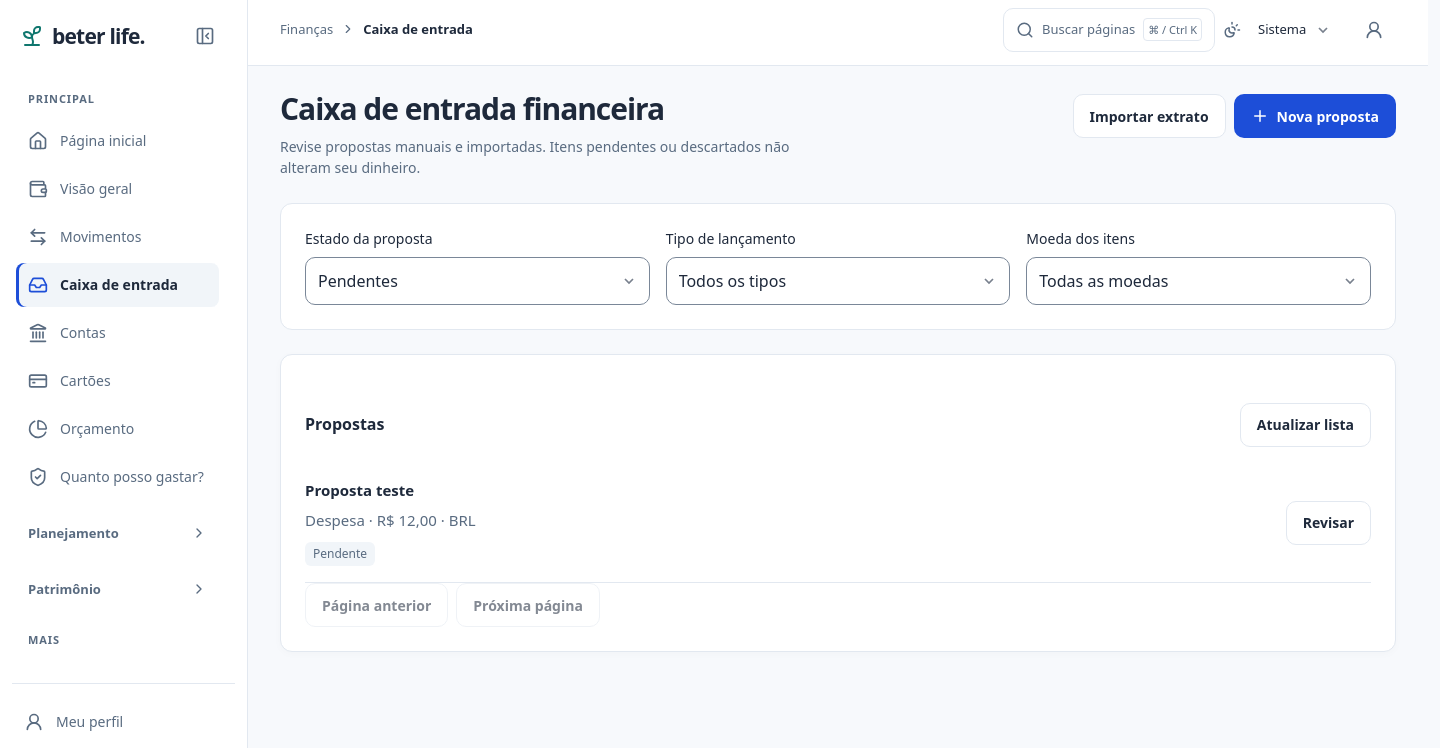
Inbox protected UI with generated transport contracts › keeps an old card proposal unchanged until explicit edit and allows correcting its account
Click the button with aria-label "Revisar Proposta teste" at (1328, 523), box [1286, 501, 1371, 545]
(page scrolled)
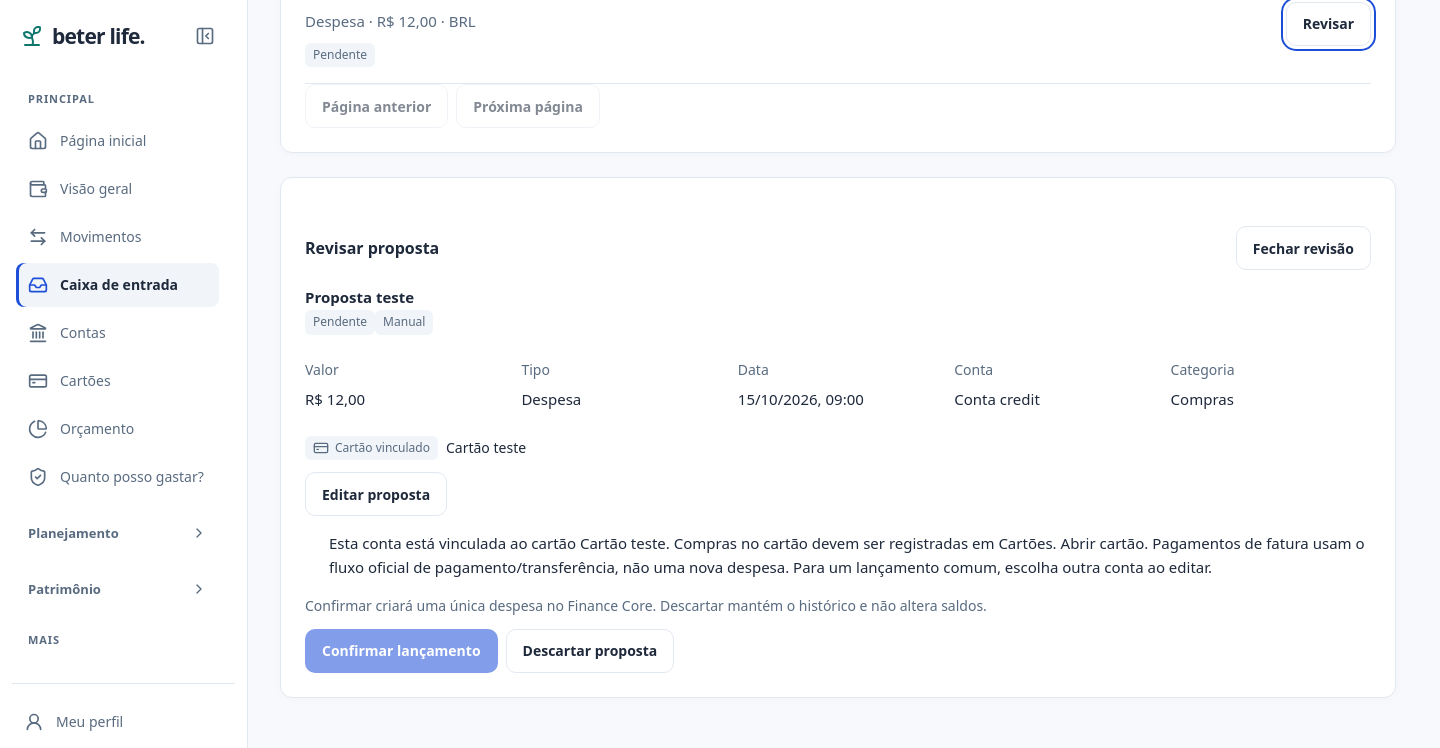
Expected: the button "Confirmar lançamento" is disabled, [305, 629, 498, 673]
Expected: the text "Esta conta está vinculada ao cartão" is shown, [329, 534, 580, 554]
Click the button "Editar proposta" at (376, 494), box [305, 472, 447, 516]
(page scrolled)
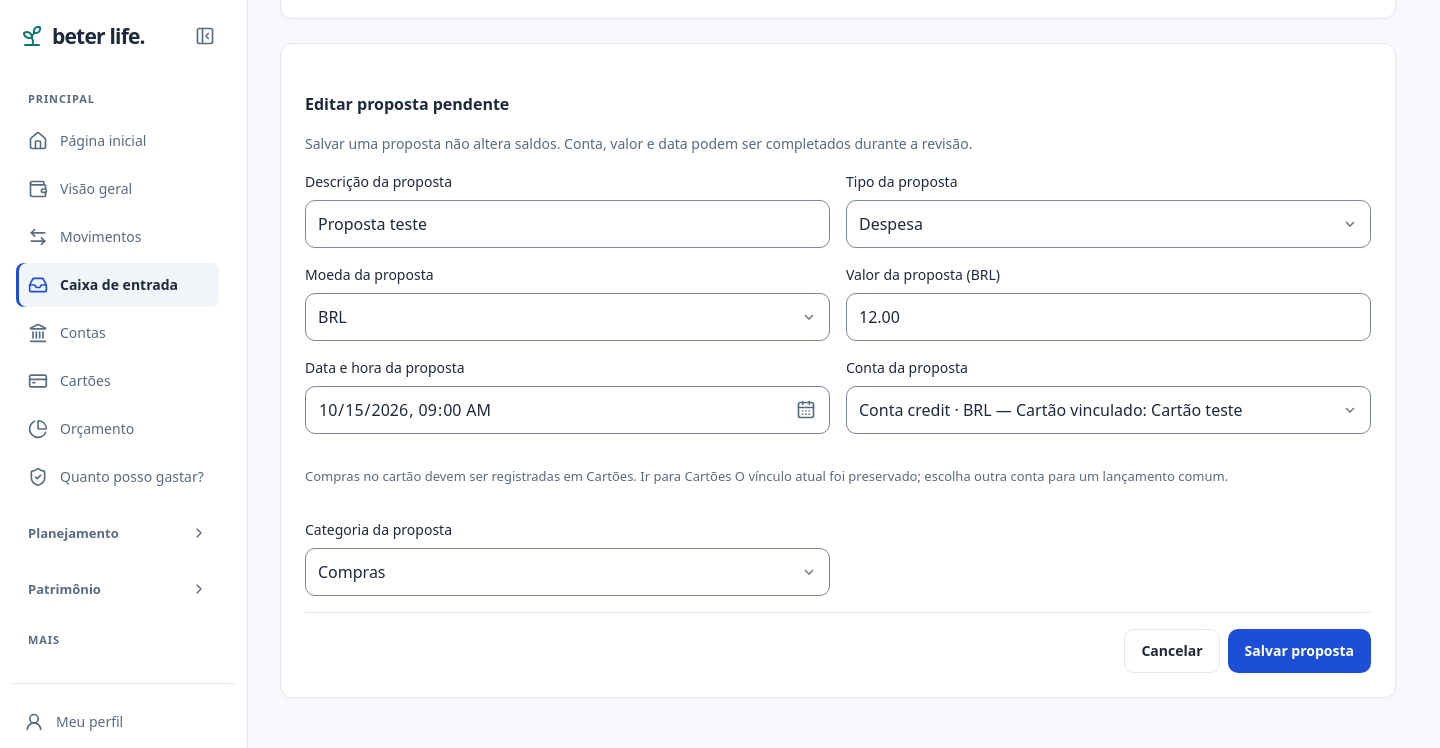
Expected: the dropdown labelled "Conta da proposta" shows "Conta credit · BRL — Cartão vinculado: Cartão teste", [846, 386, 1371, 434]
Click the button "Salvar proposta" at (1299, 651), box [1228, 629, 1371, 673]
(page scrolled)
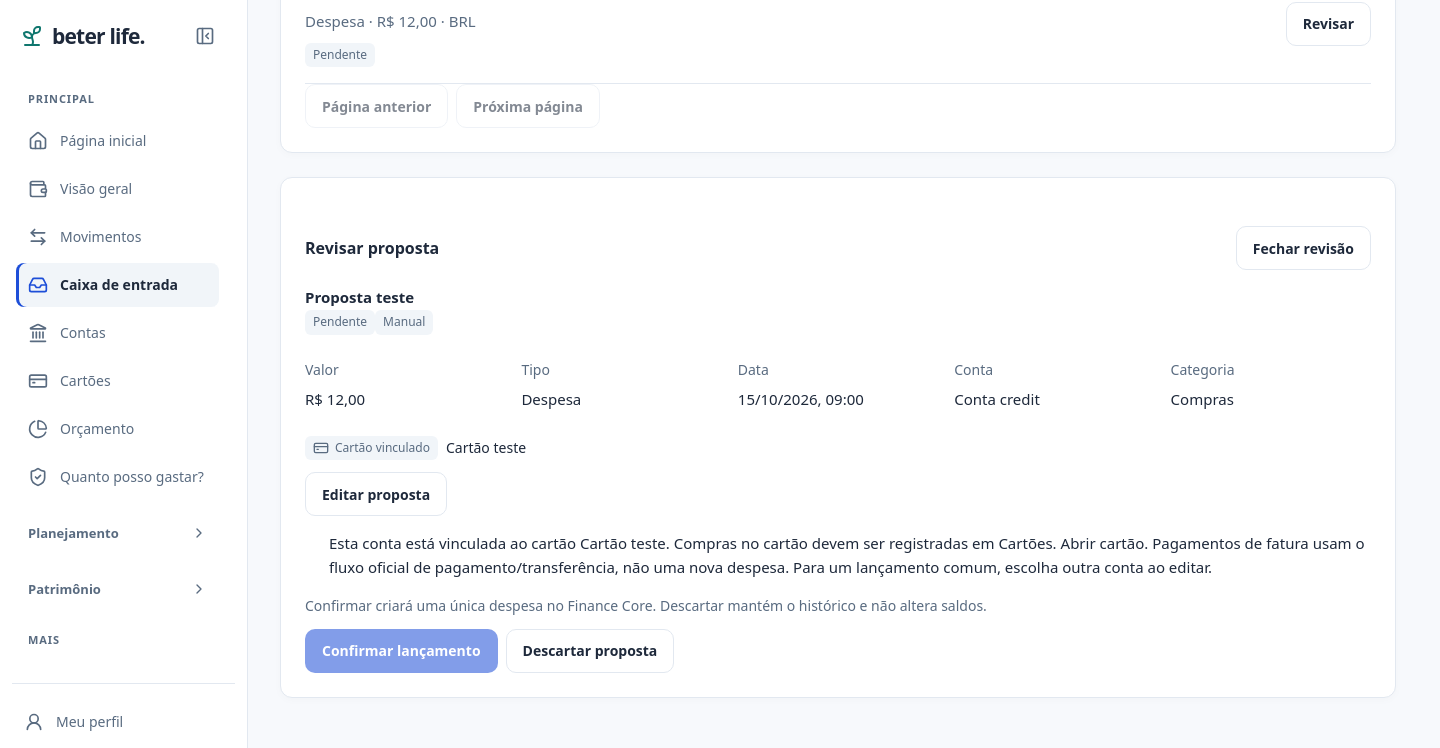
Expected: the heading "Revisar proposta" is shown, [305, 236, 439, 261]
Click the button "Editar proposta" at (376, 494), box [305, 472, 447, 516]
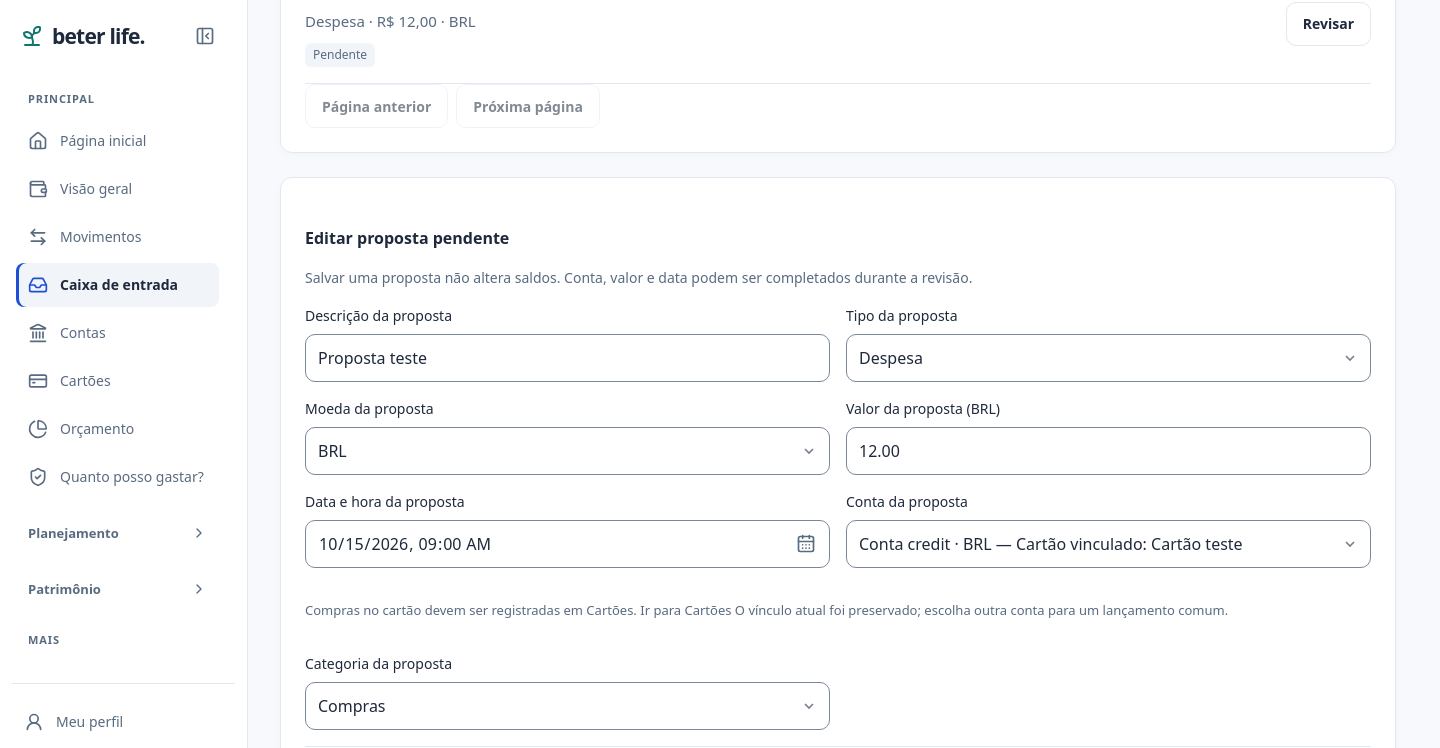
Select "Banco teste · BRL" in the dropdown labelled "Conta da proposta" at (1108, 544), box [846, 520, 1371, 568]
(page scrolled)
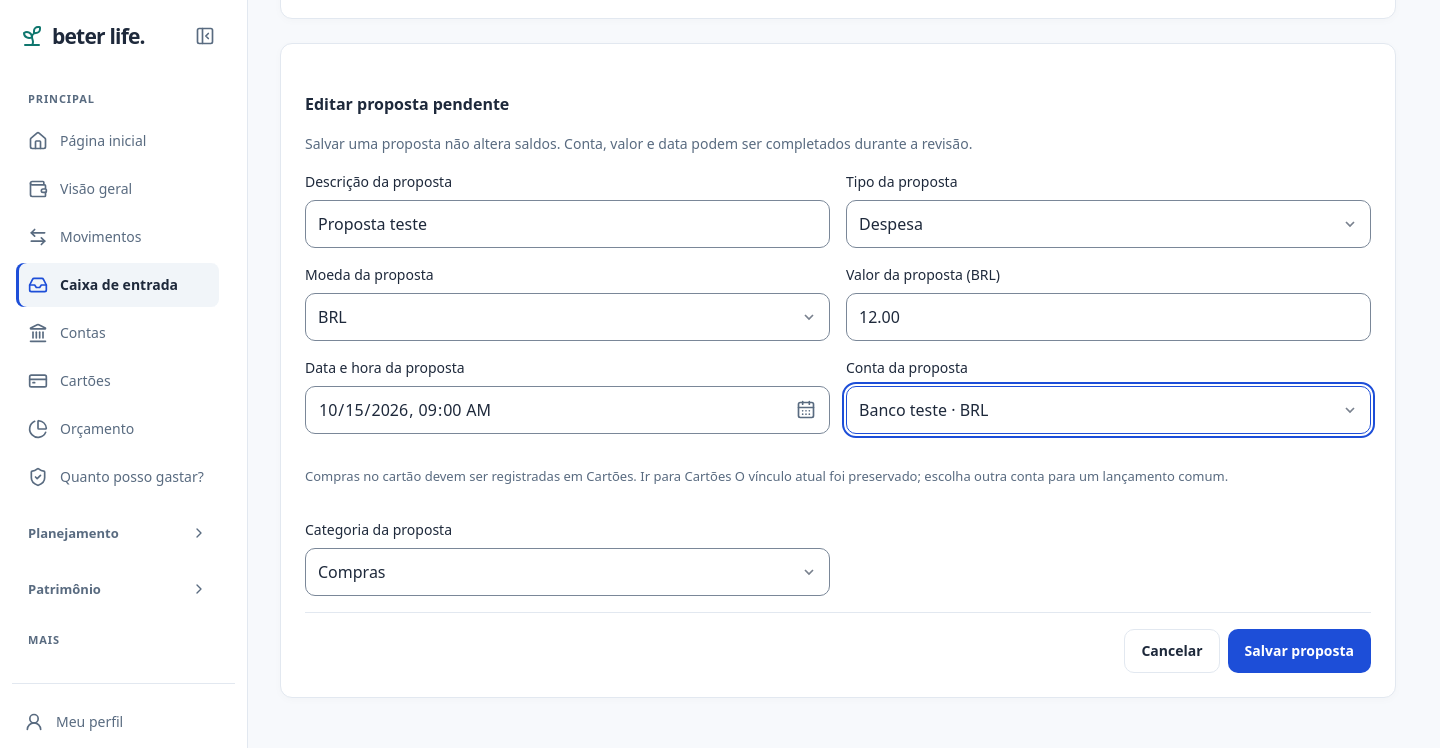
Click the button "Salvar proposta" at (1299, 651), box [1228, 629, 1371, 673]
(page scrolled)
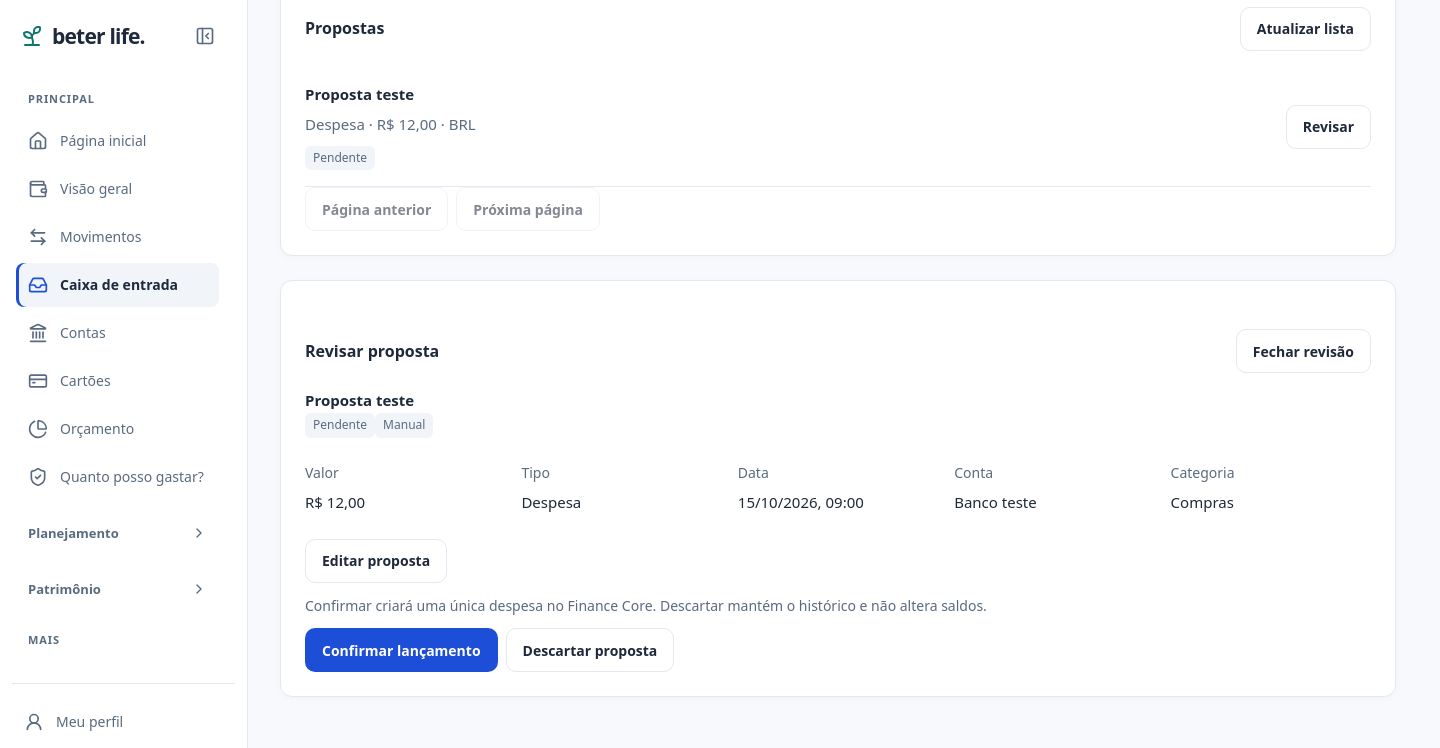
Expected: the heading "Revisar proposta" is shown, [305, 339, 439, 364]
Expected: the button "Confirmar lançamento" is enabled, [305, 628, 498, 672]
